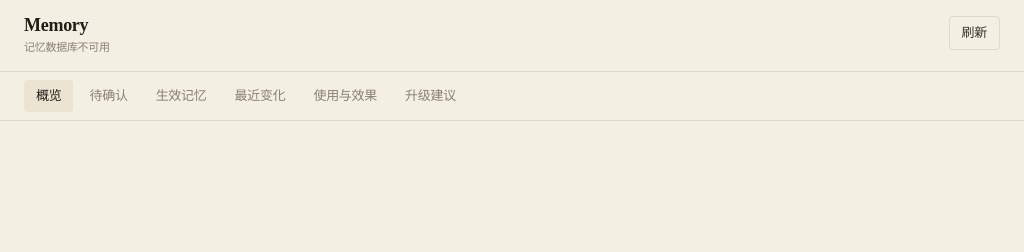
MemoryPage › explains why a candidate needs the user in the review tab
Click the button "待确认".
click(109, 96)  # box [78,80,140,112]
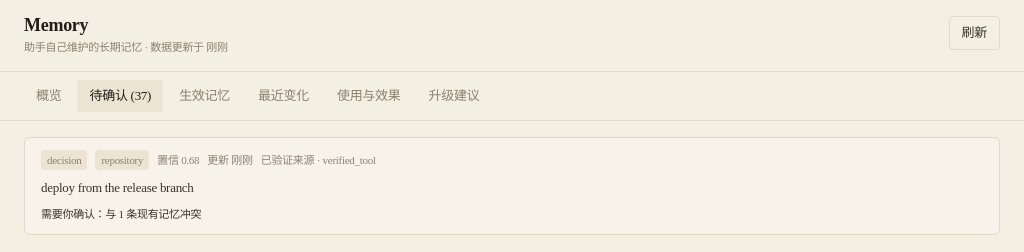
Expected: the text "需要你确认：与 1 条现有记忆冲突" is shown, [41,208,201,220]
